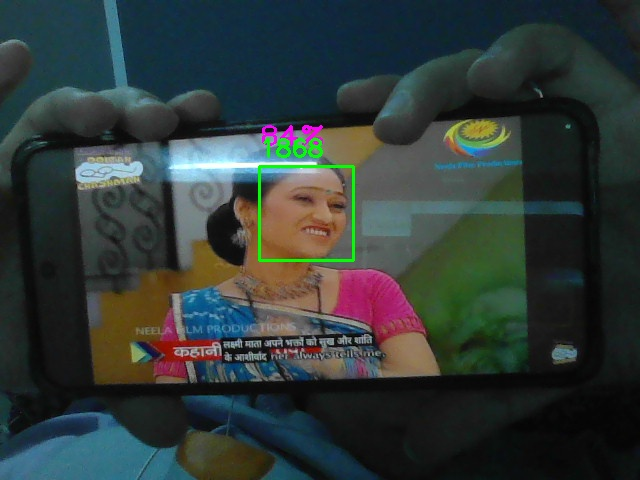fake: (259, 166, 354, 261)
